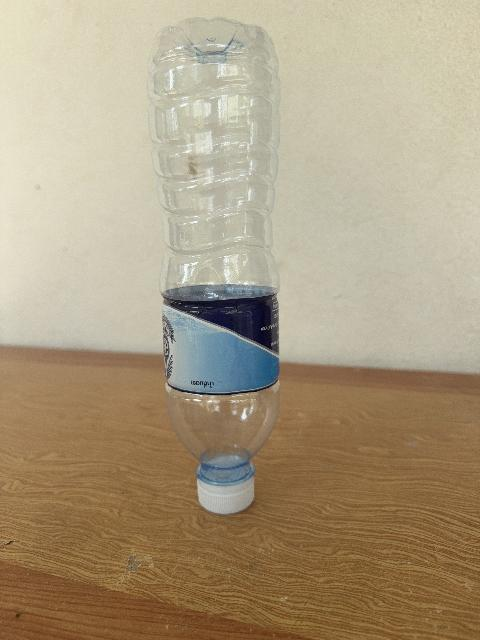bottle: (148, 19, 279, 513)
